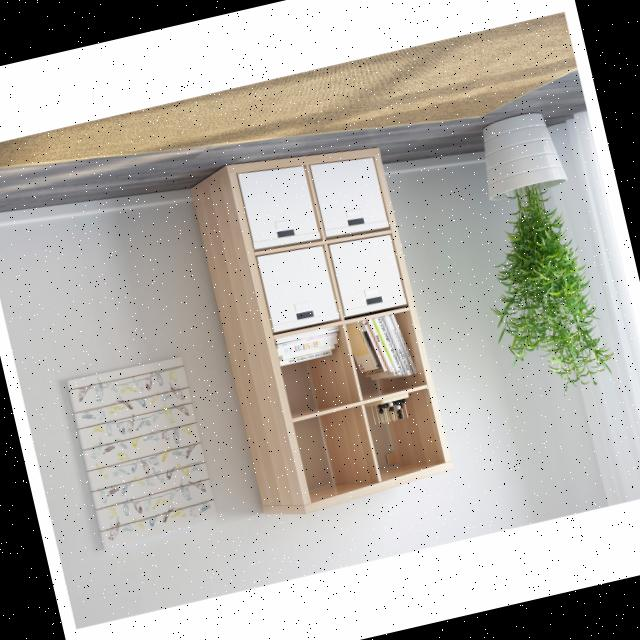Shelf: (174, 127, 453, 518)
